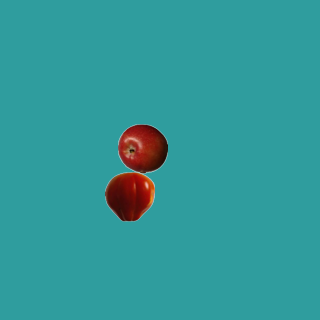Apple Braeburn: (117, 123, 167, 173)
Tomato 1: (104, 171, 154, 221)
